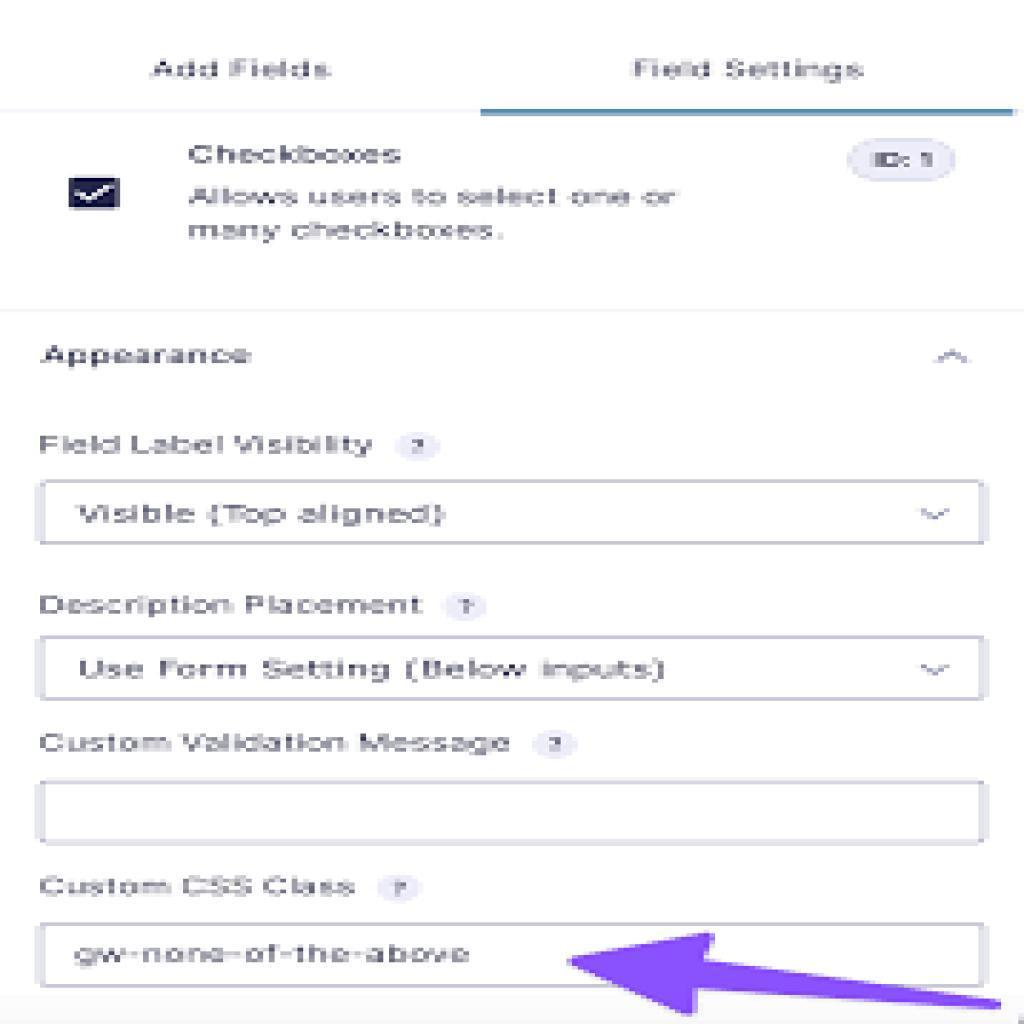checkbox: (68, 176, 123, 213)
dropdown: (40, 636, 989, 702), (35, 480, 988, 543)
icon: (934, 342, 974, 374)
input: (38, 782, 989, 846), (35, 921, 566, 993)
label: (41, 727, 512, 768), (34, 428, 379, 468), (38, 595, 431, 625), (34, 874, 359, 907), (634, 54, 884, 94), (190, 140, 408, 173), (151, 55, 340, 89)
